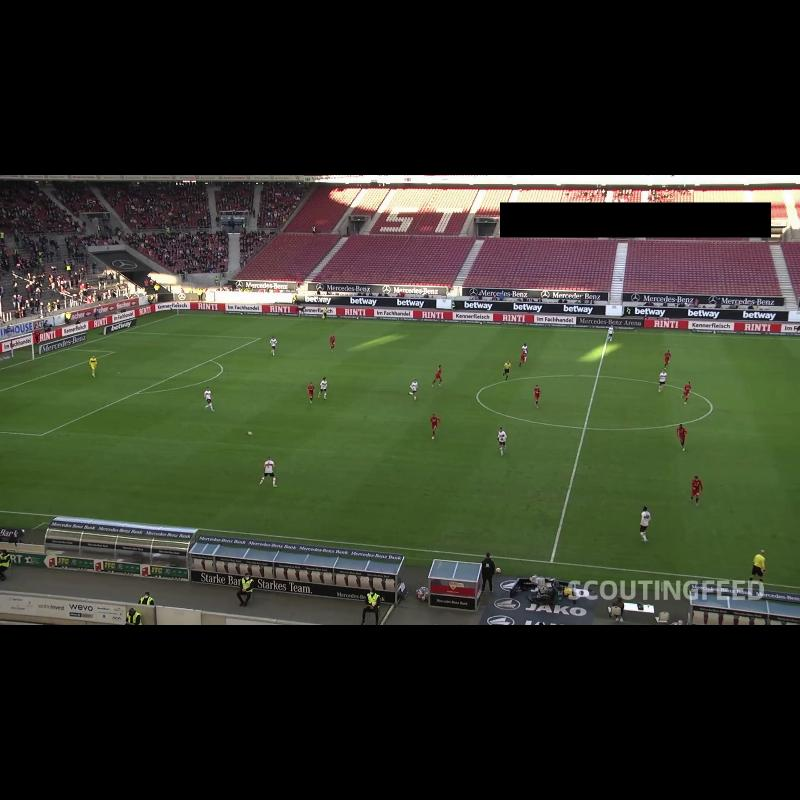cross_recipient_zone: (0, 332, 260, 435)
crossing_player_zone: (0, 431, 162, 516), (125, 314, 374, 342)
pitch: (0, 314, 800, 589)
